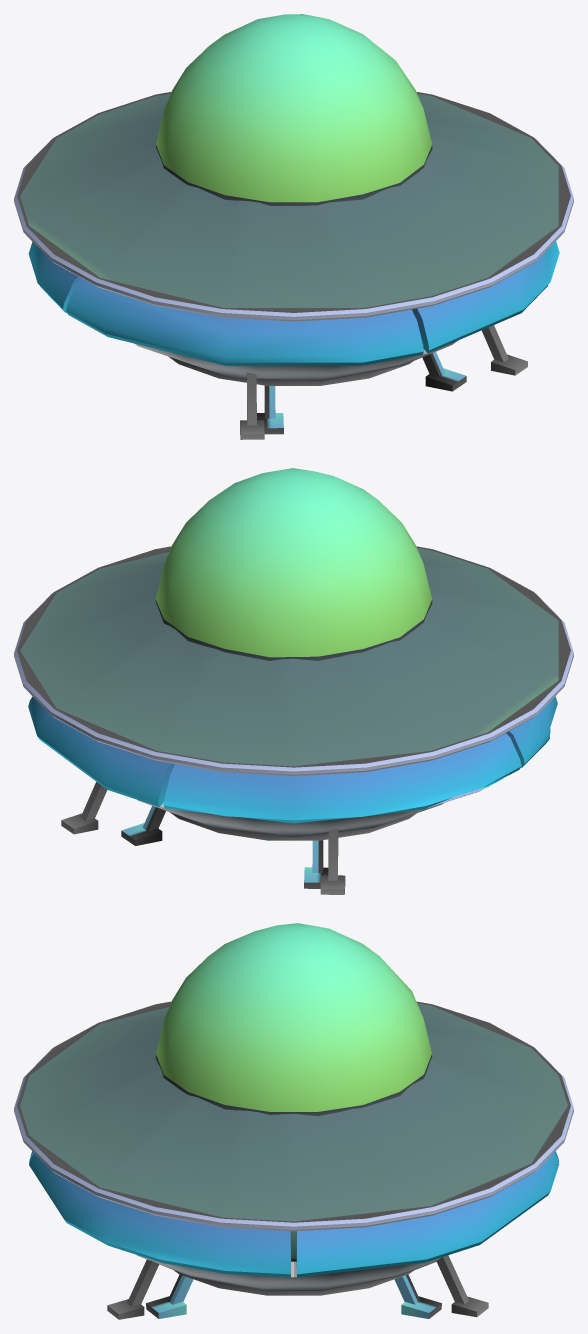
The model's file is ufos.fbx.
The picture shows the model from 3 angles, top to bottom: view 1: azimuth 30°, elevation 25°; view 2: azimuth 150°, elevation 25°; view 3: azimuth 270°, elevation 25°; orthographic projection.
Parts seen in each view (by area): view 1: UFO, UFO 4, UFO 3, Legs.001, Legs; view 2: UFO, UFO 4, UFO 3, Legs.001, Legs; view 3: UFO, UFO 4, UFO 3, Legs.001, Legs.
Boxes of the visible parts, <box> form: UFO: <box>14,92,573,321</box>; UFO 4: <box>135,14,456,385</box>; UFO 3: <box>28,241,559,365</box>; Legs.001: <box>240,325,527,439</box>; Legs: <box>257,352,466,434</box>; UFO: <box>14,546,573,775</box>; UFO 4: <box>137,468,443,840</box>; UFO 3: <box>28,696,557,823</box>; Legs.001: <box>61,782,345,894</box>; Legs: <box>121,806,328,888</box>; UFO: <box>14,1001,573,1231</box>; UFO 4: <box>137,923,441,1295</box>; UFO 3: <box>29,1151,559,1277</box>; Legs.001: <box>107,1255,488,1319</box>; Legs: <box>146,1274,441,1318</box>.
Size of the model in its own units: 570 by 376 by 570.
1 material, 1 textured.
